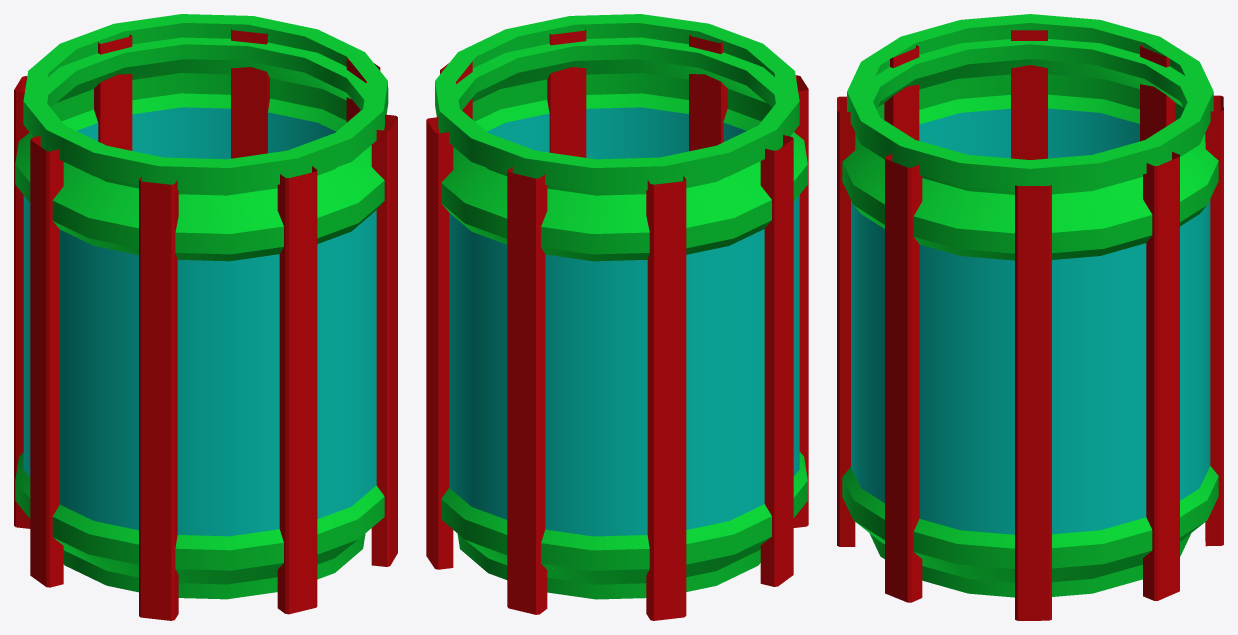
File: CircleTower.fbx
3 renders of one model, left to right at view 1: azimuth 30°, elevation 25°; view 2: azimuth 150°, elevation 25°; view 3: azimuth 270°, elevation 25°, orthographic.
Parts seen in each view (by area): view 1: Bottom_tower; view 2: Bottom_tower; view 3: Bottom_tower.
Boxes of the visible parts, x1,y1,x2,y2 form: Bottom_tower: (14, 14, 397, 620); Bottom_tower: (426, 14, 808, 620); Bottom_tower: (837, 14, 1223, 620).
Bounding box in the file's own units: 900 × 1149 × 900.
